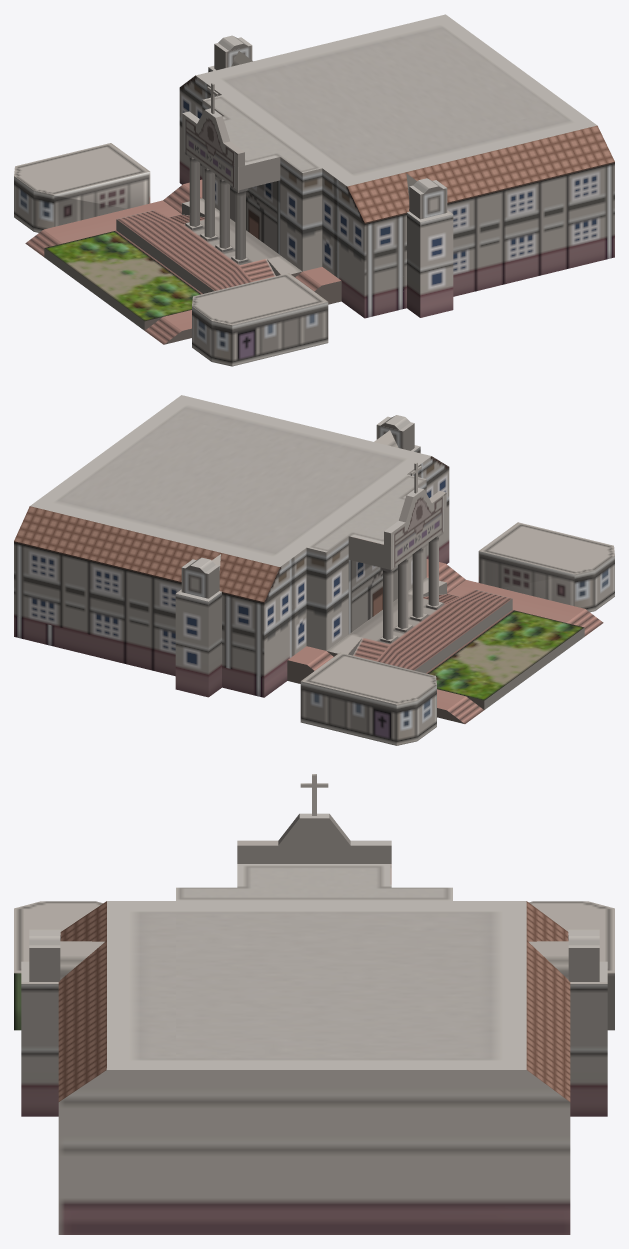
The model's file is School.fbx.
3 views of the same model, one above another, from view 1: azimuth 30°, elevation 25°; view 2: azimuth 150°, elevation 25°; view 3: azimuth 270°, elevation 25° (orthographic). The views are drawn at different scales.
Visible parts, largest first — view 1: School; view 2: School; view 3: School.
Boxes of the visible parts, x1=… form: School: x1=14, y1=14, x2=614, y2=366; School: x1=14, y1=395, x2=614, y2=745; School: x1=14, y1=774, x2=614, y2=1234.
Bounding box in the file's own units: 9.71 × 3.93 × 8.53.
